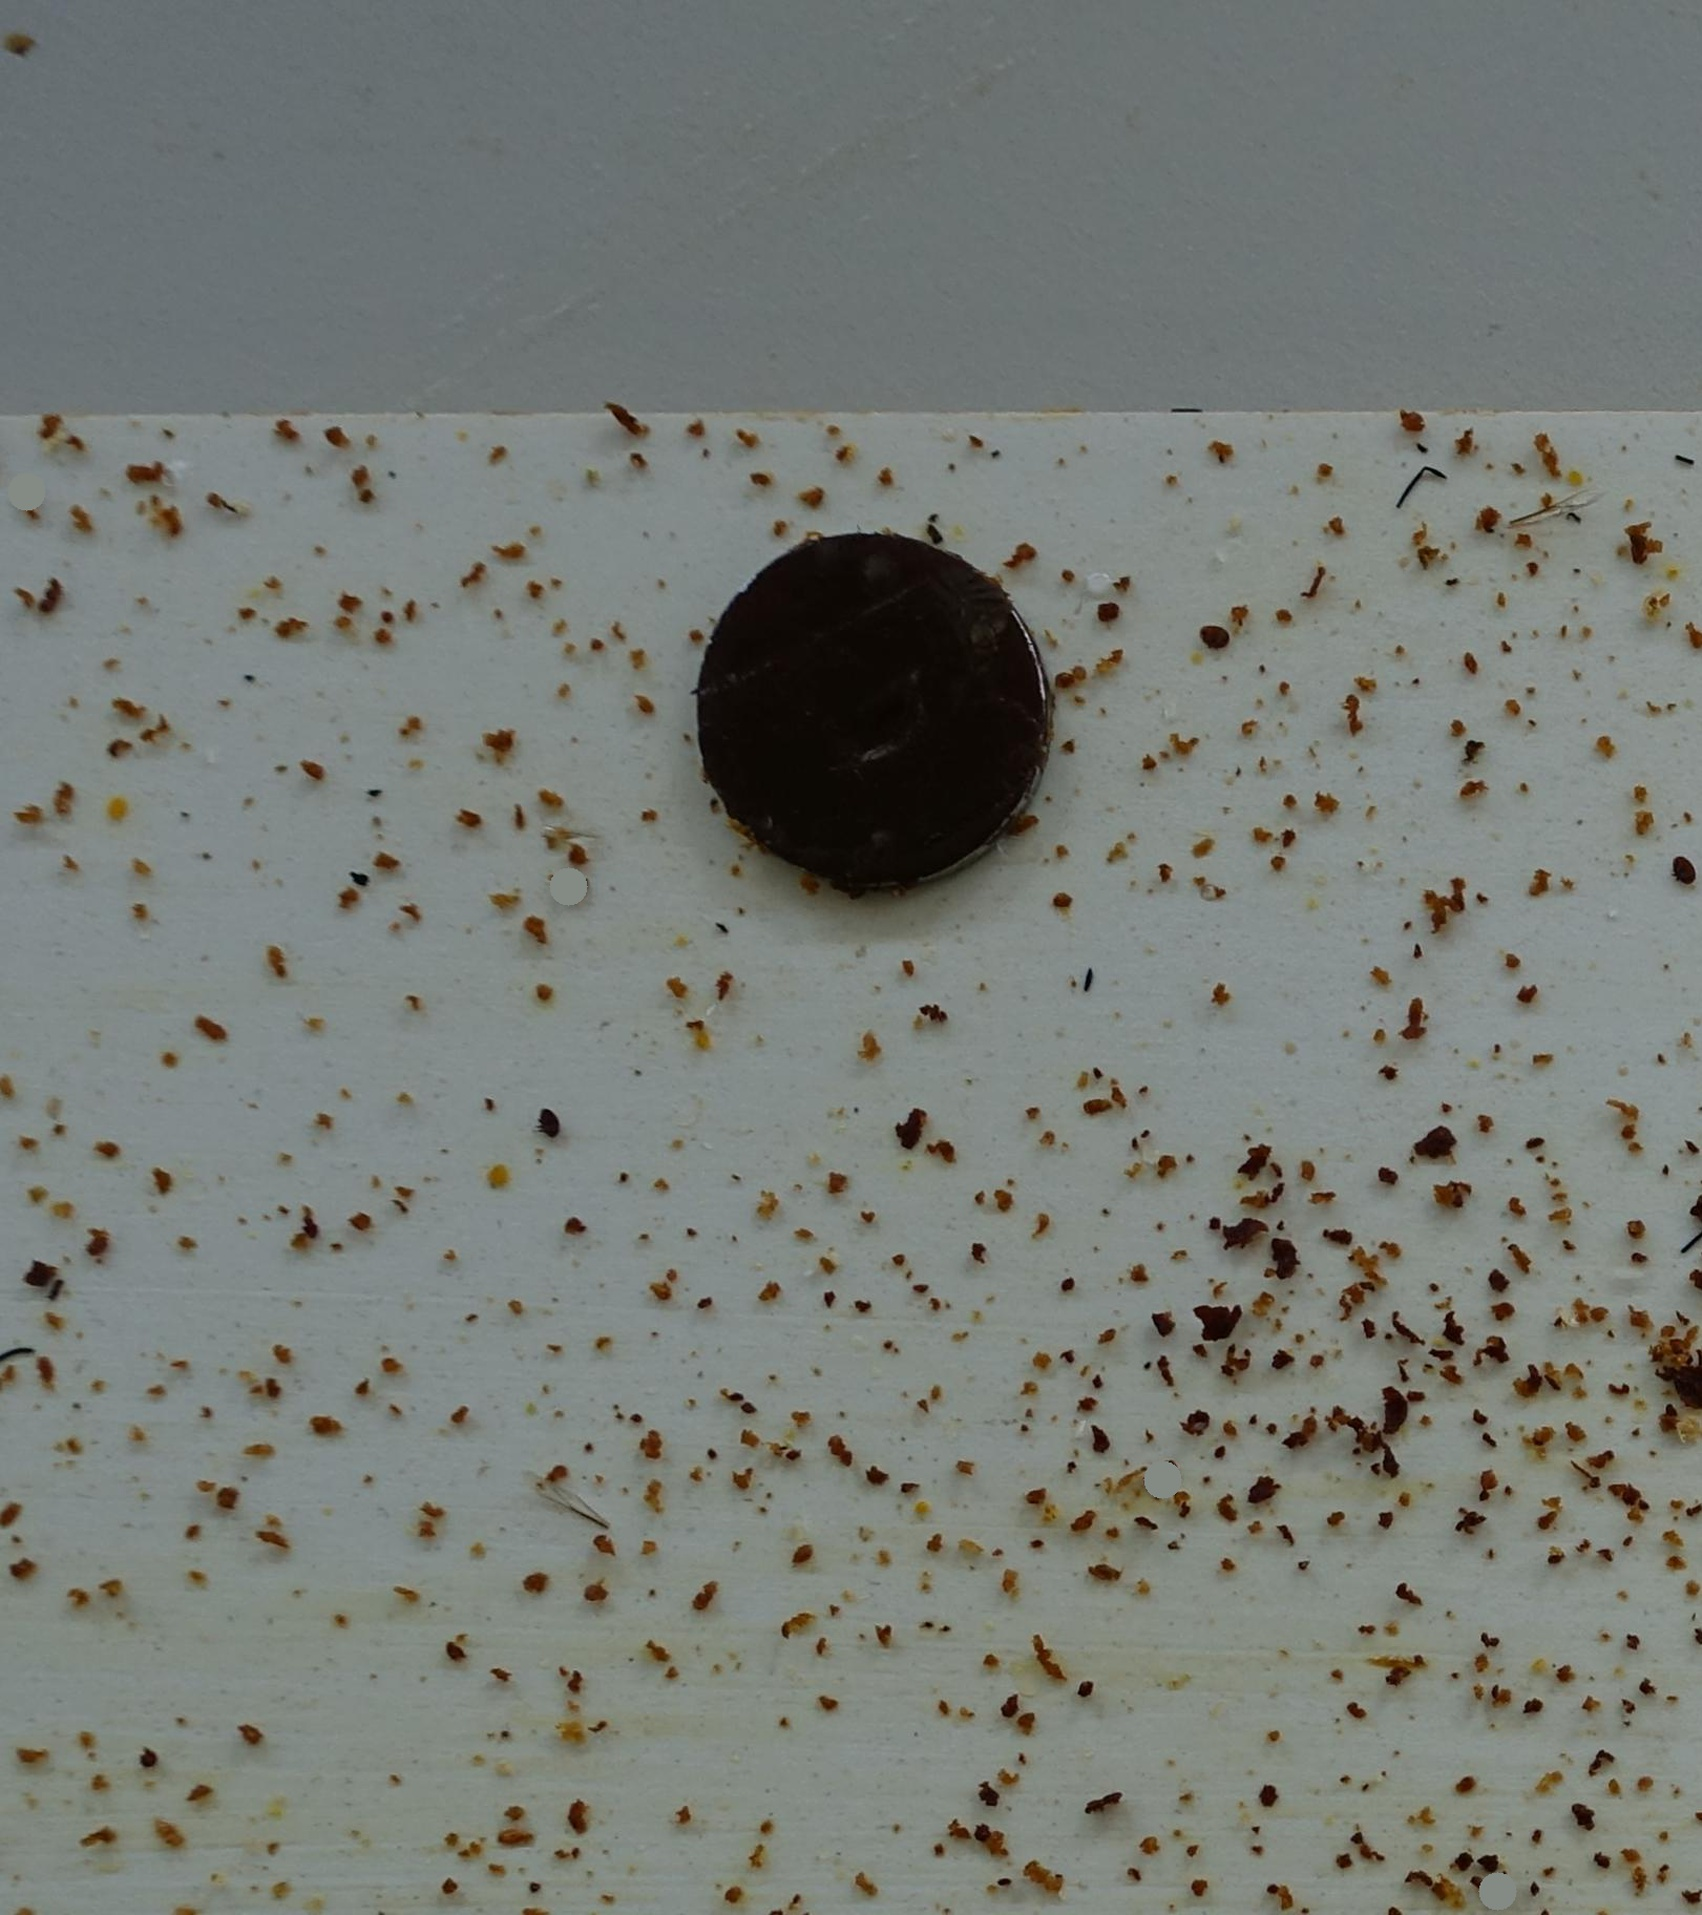Varroa: (1199, 622, 1227, 650), (537, 1105, 563, 1133), (1672, 852, 1697, 879)
